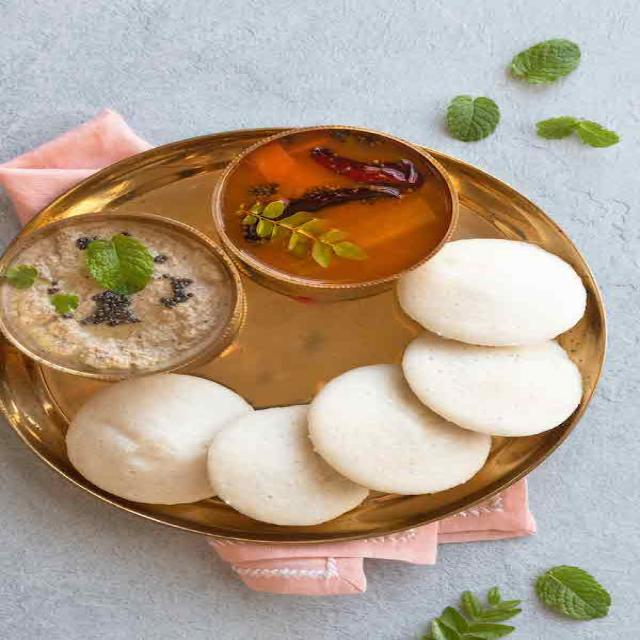idli: (56, 370, 254, 518), (314, 370, 497, 501), (205, 397, 367, 535), (387, 332, 586, 436), (397, 243, 586, 349)
